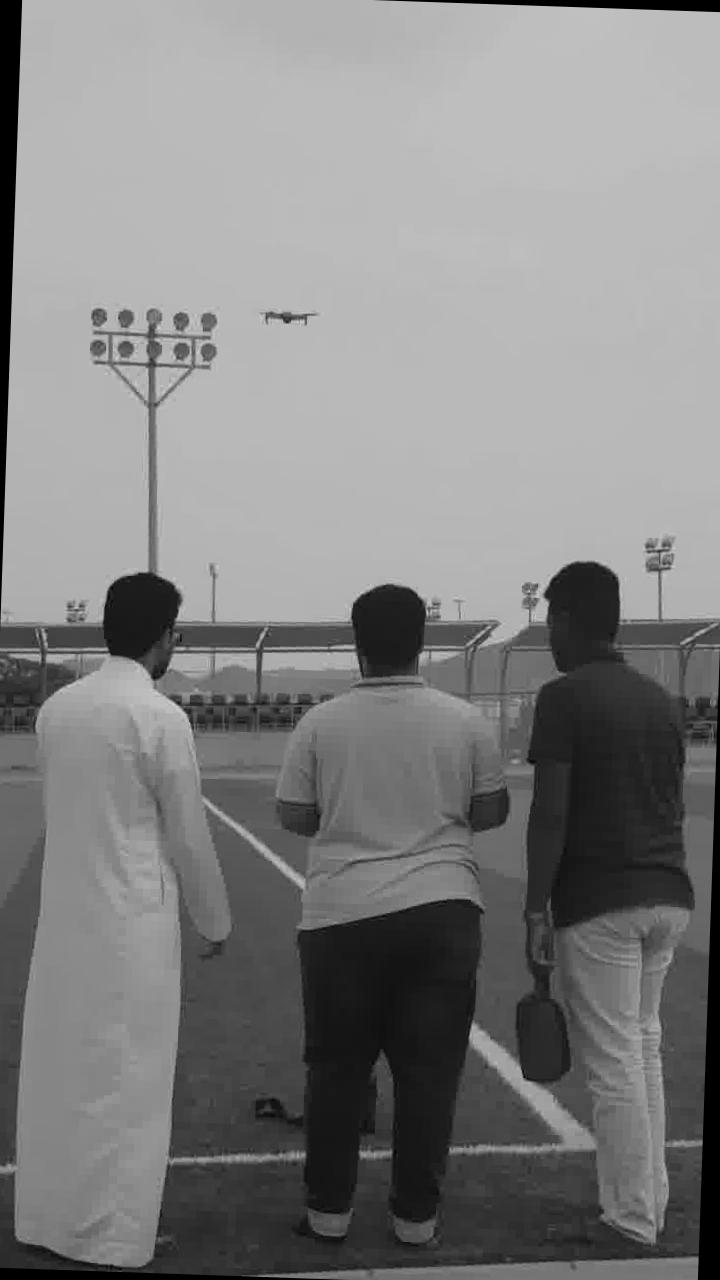drone: (251, 297, 332, 334)
